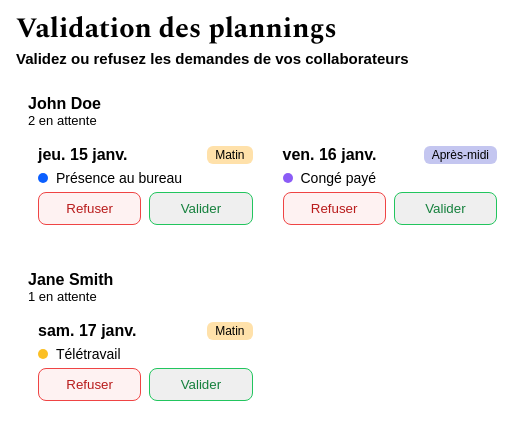
Scenario: ValidationPlanning Component › Displays error message when update fails
The width and height of the screenshot is (514, 448).
Click the button with test id "approve-button-101": (201, 208) [149,192,253,225]
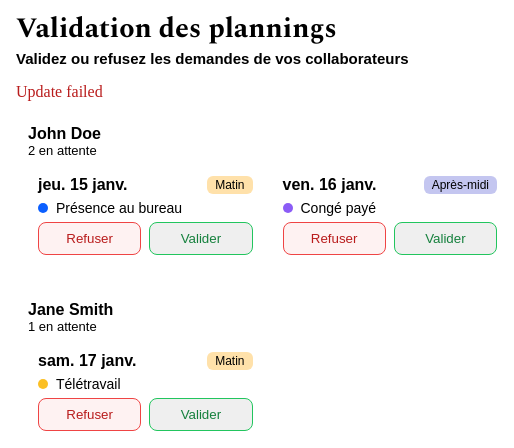
Result: the text "Update failed" is shown at [16,83,103,100]
